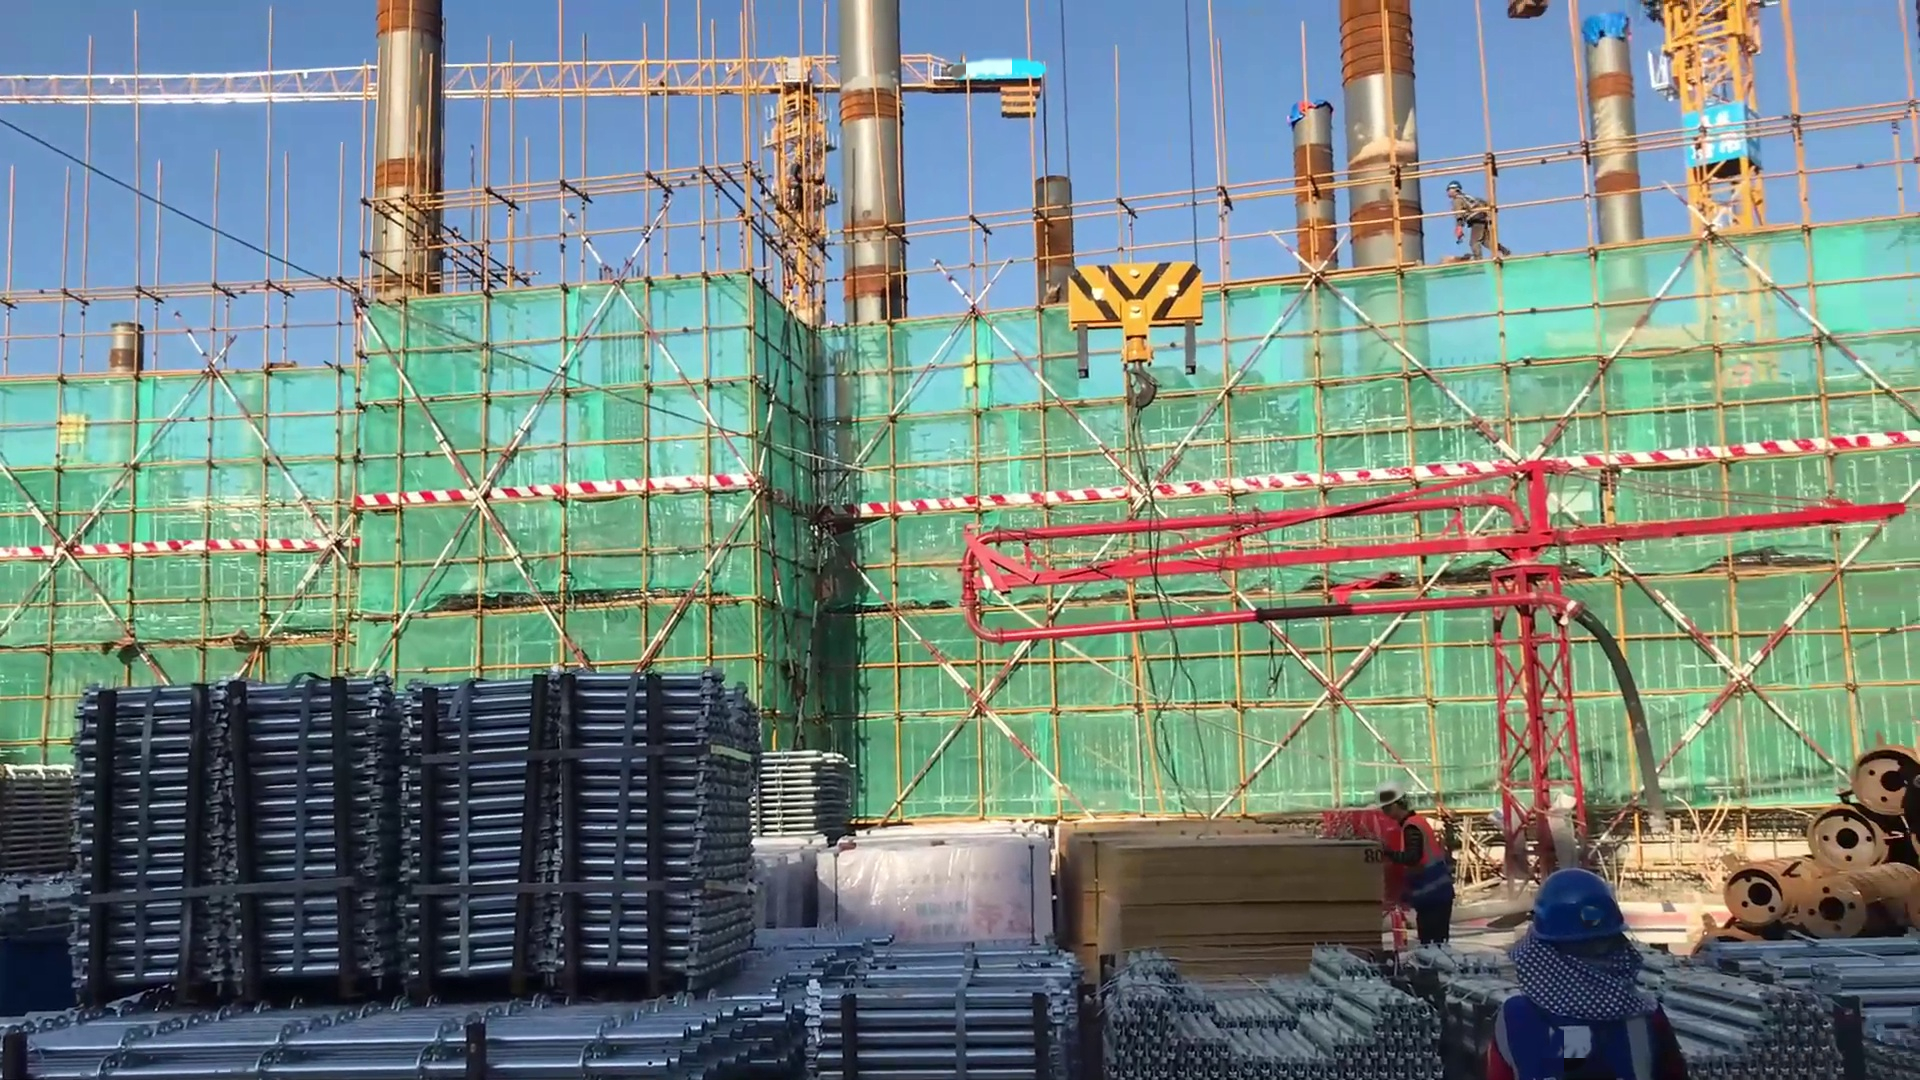board: (1061, 816, 1390, 991)
helmet: (1534, 867, 1624, 946), (1371, 776, 1407, 805), (1443, 179, 1467, 189)
hook: (1037, 248, 1231, 451)
person: (1484, 865, 1697, 1080), (1366, 779, 1472, 957), (1440, 176, 1518, 264)
scaffold: (31, 653, 773, 1080), (791, 926, 1086, 1080), (1094, 952, 1450, 1080), (1652, 938, 1911, 1080), (1, 760, 79, 1011), (752, 741, 865, 839)
slogan: (1687, 105, 1748, 164)
vest: (1493, 988, 1654, 1080), (1393, 819, 1454, 901)
